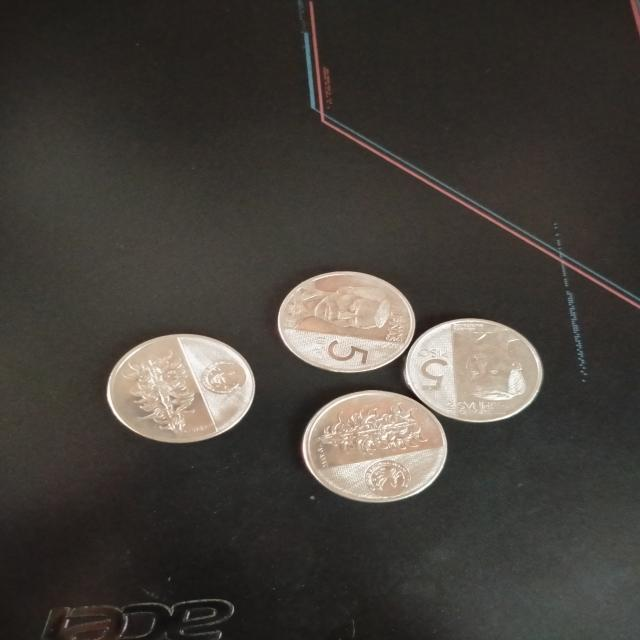5_New_Back: (314, 396, 438, 465), (120, 348, 198, 437)
5_New_Front: (309, 332, 388, 375), (400, 346, 462, 397)
